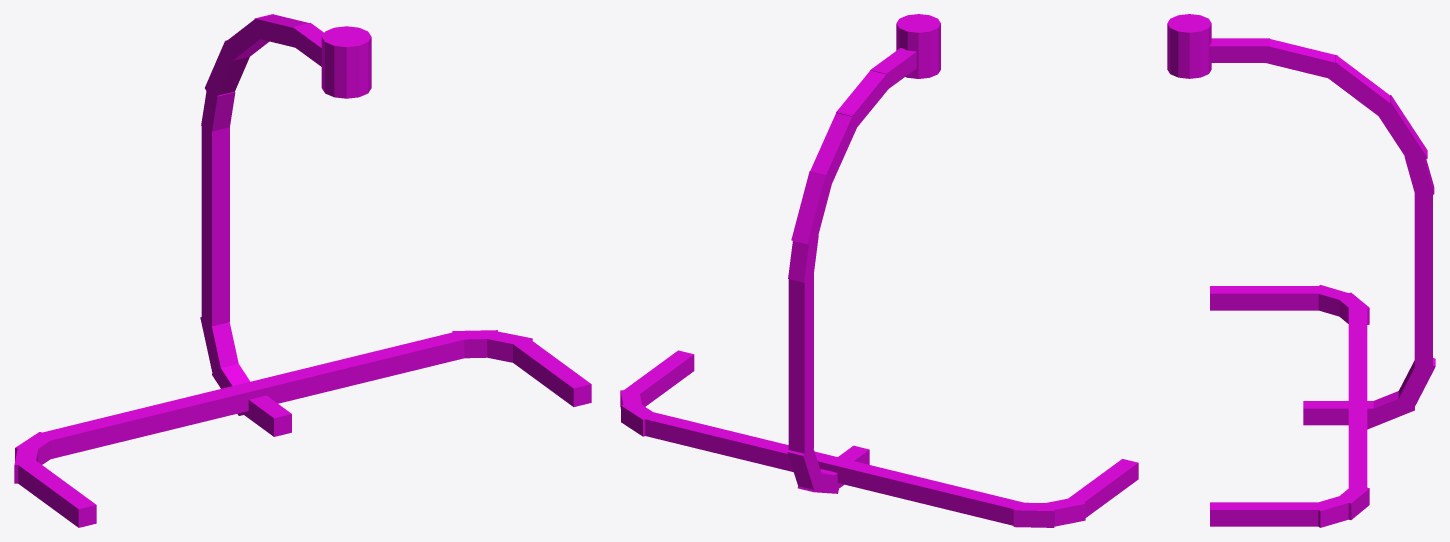
Rendered from SM_FlatPanelBoomPart03Collider.fbx.
3 renders of one model, left to right at view 1: azimuth 30°, elevation 25°; view 2: azimuth 150°, elevation 25°; view 3: azimuth 270°, elevation 25°, orthographic. The views are drawn at different scales.
Visible parts, largest first — view 1: FlatPanelBoomPart03Collision; view 2: FlatPanelBoomPart03Collision; view 3: FlatPanelBoomPart03Collision.
Part boxes in pixels (left/top/right/bottom): FlatPanelBoomPart03Collision: left=14, top=14, right=591, bottom=527; FlatPanelBoomPart03Collision: left=620, top=14, right=1138, bottom=527; FlatPanelBoomPart03Collision: left=1167, top=14, right=1435, bottom=527.
Bounding box in the file's own units: 43.91 × 36.41 × 22.
